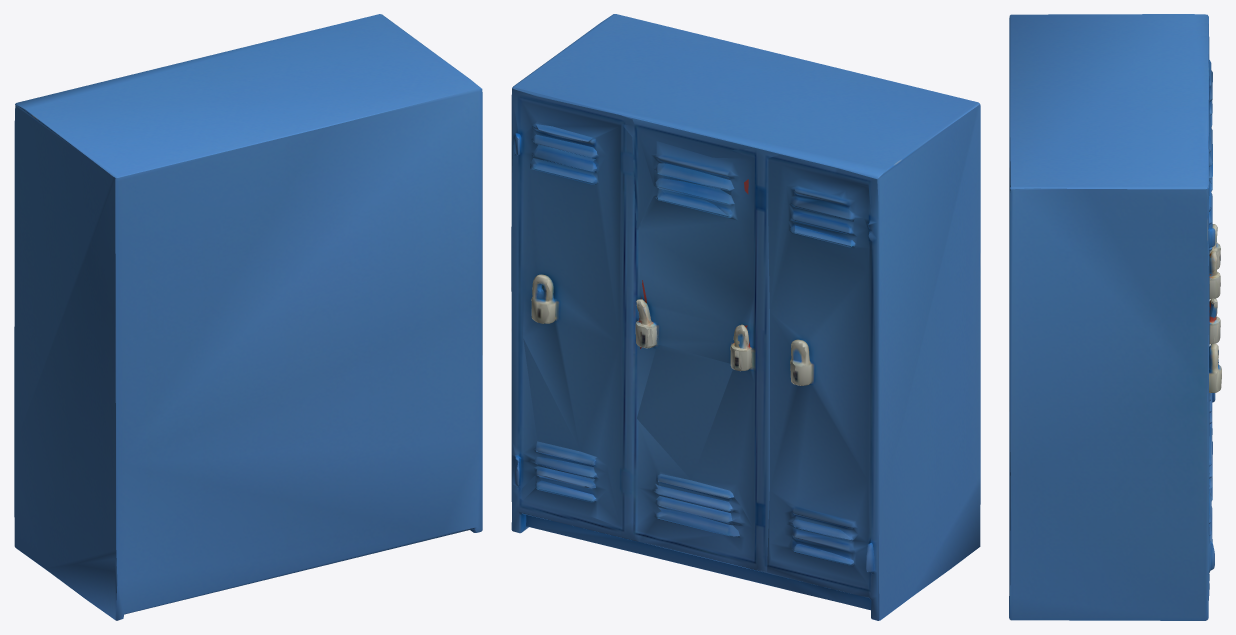
The model's file is Prop_SchoolLockers_AI.glb.
3 views of the same model, side by side, from view 1: azimuth 30°, elevation 25°; view 2: azimuth 150°, elevation 25°; view 3: azimuth 270°, elevation 25° (orthographic). The views are drawn at different scales.
Parts seen in each view (by area): view 1: Prop_SchoolLockers_AI; view 2: Prop_SchoolLockers_AI; view 3: Prop_SchoolLockers_AI.
Part boxes in pixels (x1=…): Prop_SchoolLockers_AI: x1=14, y1=14, x2=482, y2=620; Prop_SchoolLockers_AI: x1=511, y1=14, x2=980, y2=620; Prop_SchoolLockers_AI: x1=1009, y1=14, x2=1221, y2=620.
Bounding box in the file's own units: 1.64 × 1.9 × 0.8451.
2 materials, 2 textured.
